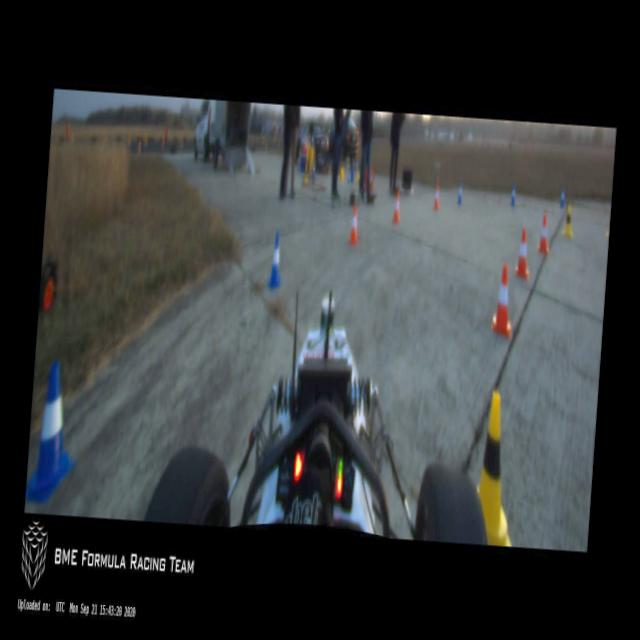blue_cone: (25, 363, 81, 503), (264, 231, 286, 288), (509, 182, 517, 207), (558, 185, 566, 208), (456, 182, 463, 204)
orange_cone: (491, 264, 516, 334), (514, 230, 530, 278), (536, 212, 550, 254), (348, 203, 360, 244), (391, 190, 402, 222), (432, 184, 440, 210)
yellow_cone: (473, 392, 520, 544), (562, 205, 574, 238)
